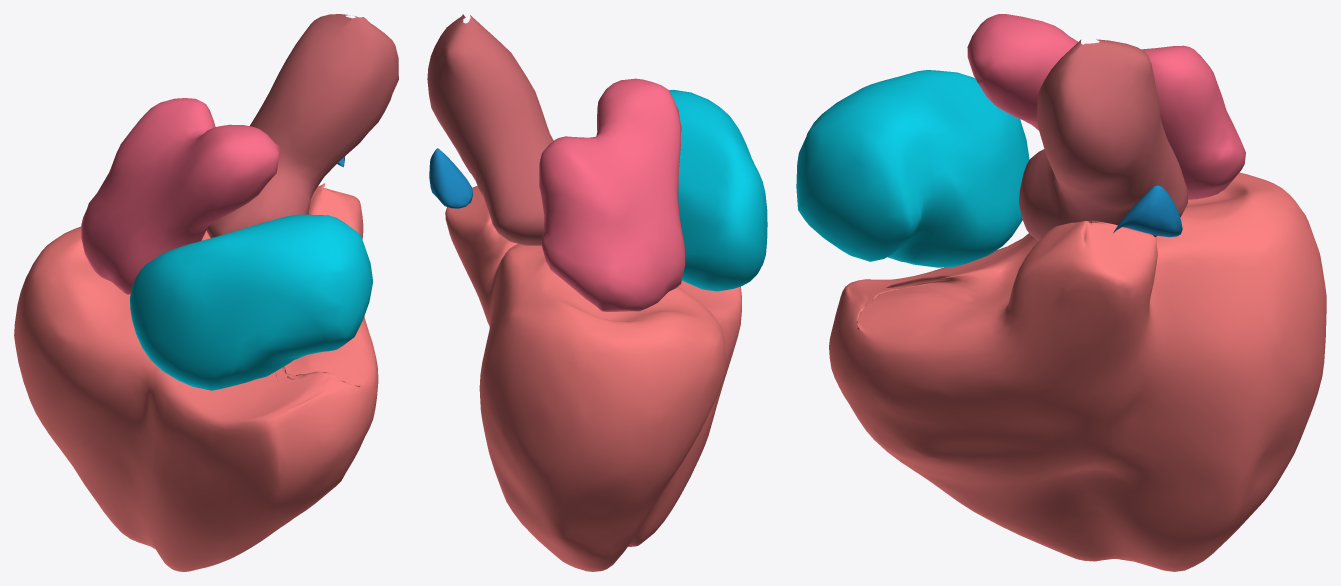
File: frame_17.glb
3 renders of one model, left to right at view 1: azimuth 30°, elevation 25°; view 2: azimuth 150°, elevation 25°; view 3: azimuth 270°, elevation 25°, orthographic. The views are drawn at different scales.
Visible parts, largest first — view 1: Renderer Node; view 2: Renderer Node; view 3: Renderer Node.
Part boxes in pixels (x1=…): Renderer Node: x1=14, y1=14, x2=398, y2=571; Renderer Node: x1=427, y1=14, x2=767, y2=571; Renderer Node: x1=796, y1=14, x2=1326, y2=571.
Size of the model in its own units: 101 by 153 by 118.
